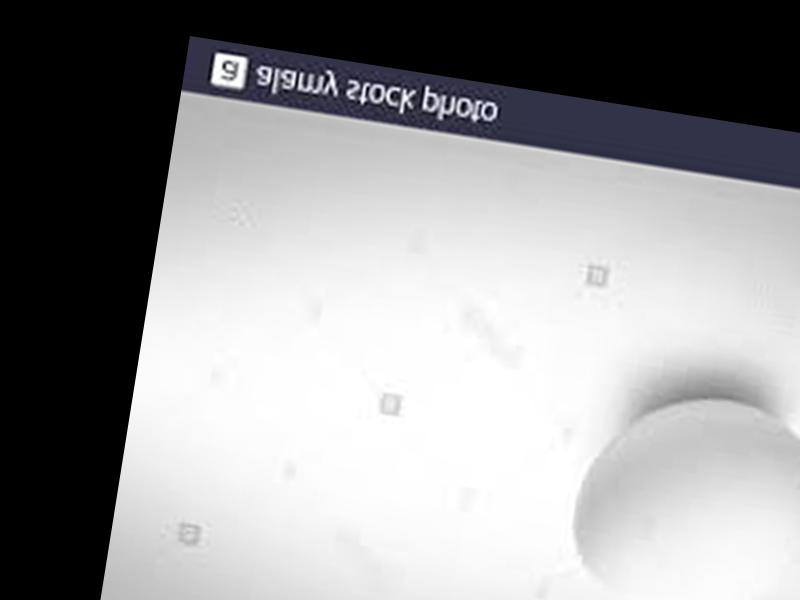Eggs: (564, 379, 800, 600)
